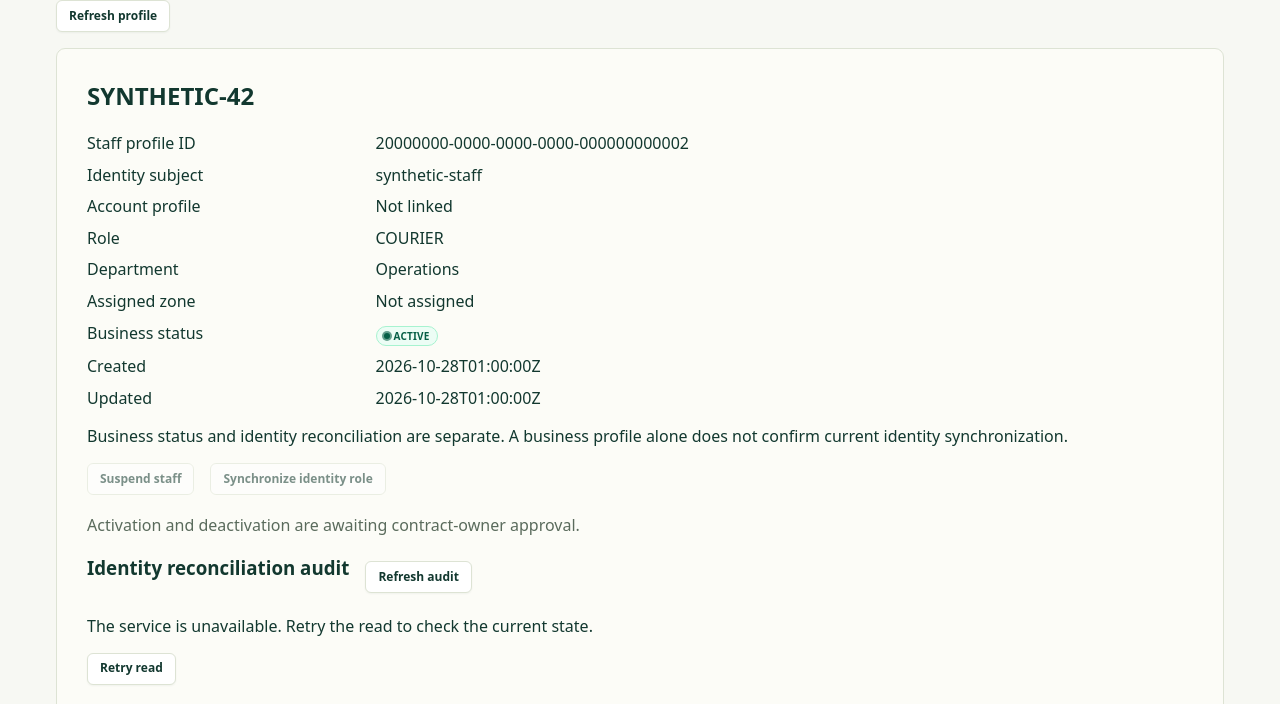
it: User and staff reads › keeps profile usable while audit read fails and offers explicit retry
The image size is (1280, 704).
(page scrolled)
Expected: the message shows "service is unavailable", [87, 614, 593, 636]
Expected: the heading "SYNTHETIC-42" is shown, [87, 79, 254, 112]
What coordinates should you click on to do the following:
click the button "Retry read"
I would click on:
 (131, 668)
Its box is [87, 652, 176, 684].
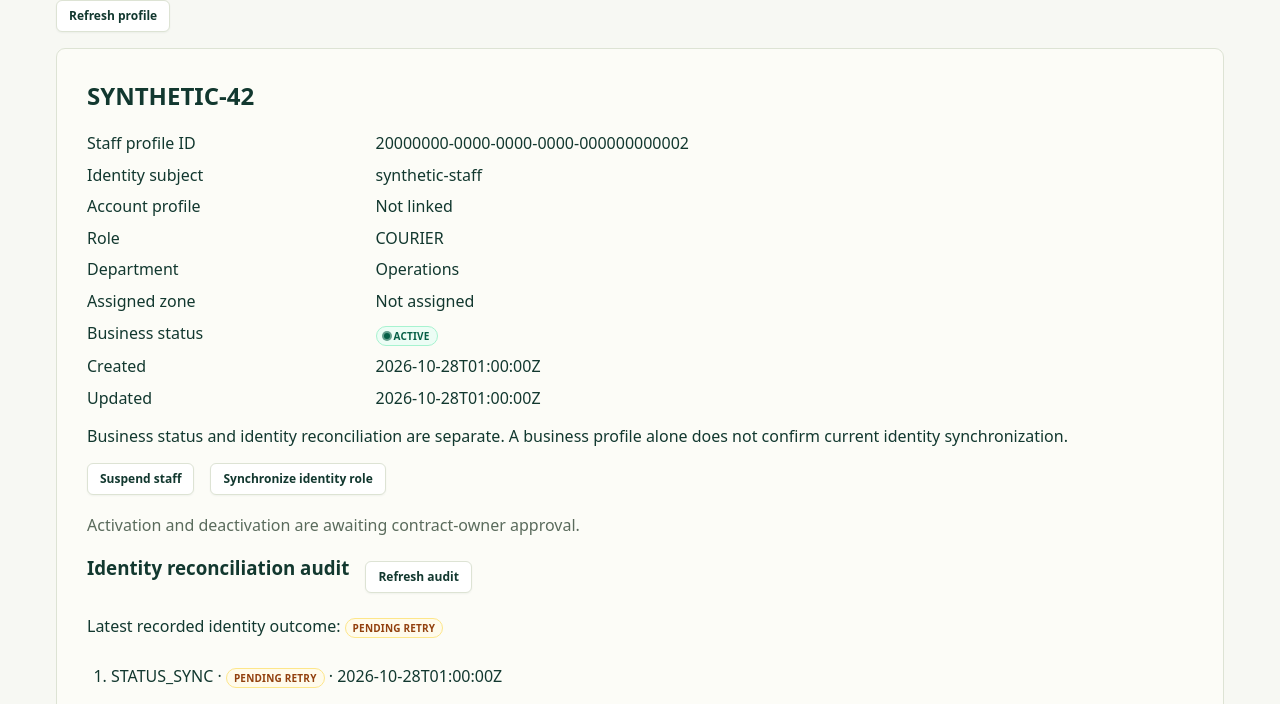
Now the text "Latest recorded identity outcome:" is shown, box [87, 614, 345, 636]
